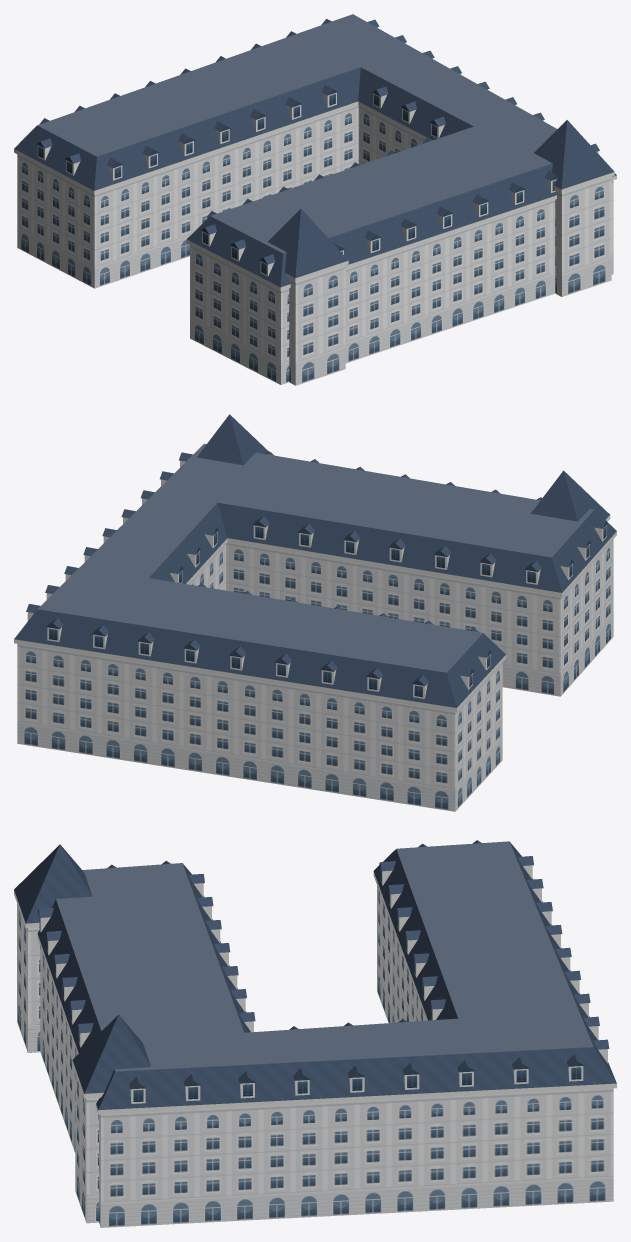
File: xueke3.glb
The picture shows the model from 3 angles, top to bottom: view 1: azimuth 30°, elevation 25°; view 2: azimuth 150°, elevation 25°; view 3: azimuth 270°, elevation 25°; orthographic projection. The views are drawn at different scales.
Parts seen in each view (by area): view 1: 学科3号楼_主体, 学科3号楼_屋顶; view 2: 学科3号楼_屋顶, 学科3号楼_主体; view 3: 学科3号楼_屋顶, 学科3号楼_主体.
Part boxes in pixels (left/top/right/bottom): 学科3号楼_主体: left=14, top=101, right=616, bottom=385; 学科3号楼_屋顶: left=14, top=14, right=616, bottom=287; 学科3号楼_屋顶: left=14, top=414, right=616, bottom=707; 学科3号楼_主体: left=14, top=515, right=616, bottom=811; 学科3号楼_屋顶: left=14, top=840, right=616, bottom=1110; 学科3号楼_主体: left=14, top=872, right=616, bottom=1227.
Bounding box in the file's own units: 69.52 × 24.8 × 71.09.
5 materials, 3 textured.
